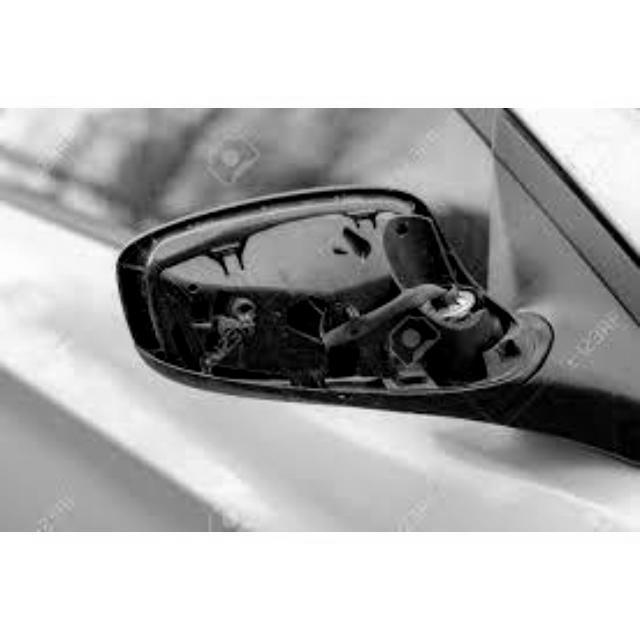Sidemirror-Damage: (114, 189, 547, 395)
